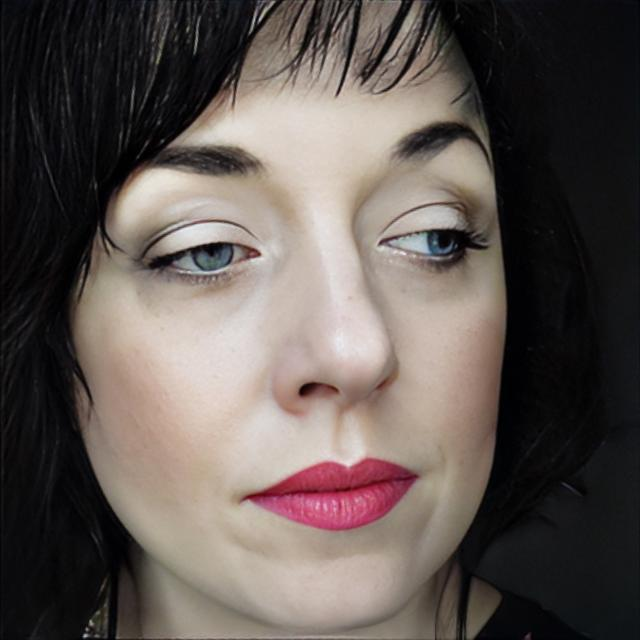content: (68, 0, 510, 634)
